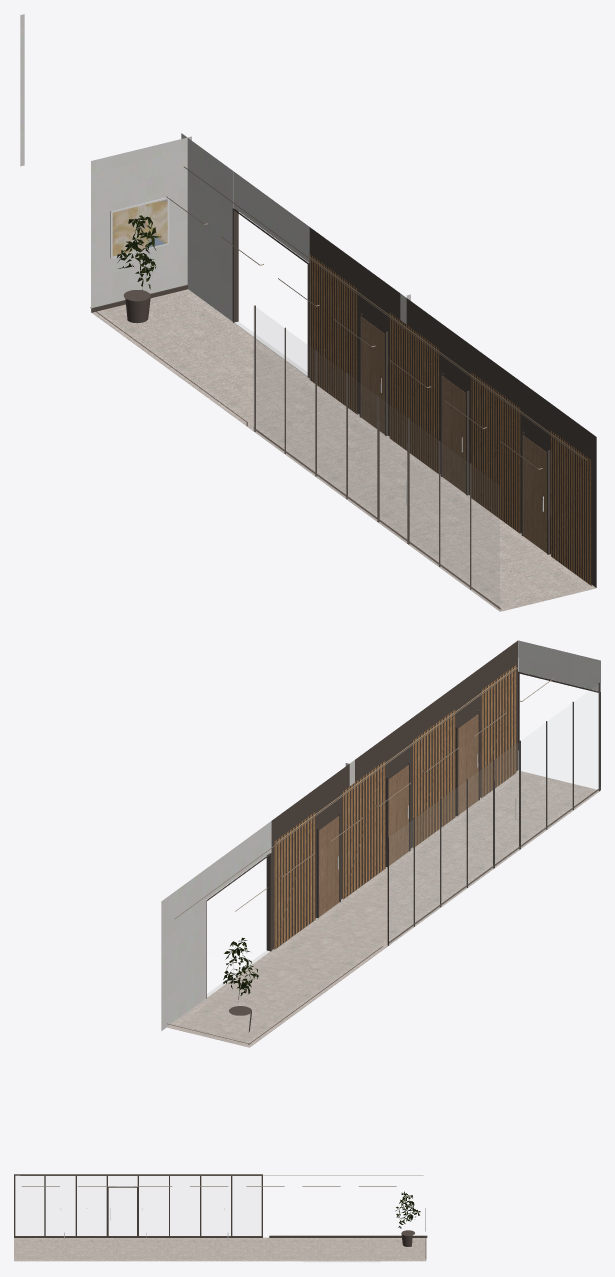
Rendered from z-corridor-lite.light.e96277b6.glb.
The picture shows the model from 3 angles, top to bottom: view 1: azimuth 30°, elevation 25°; view 2: azimuth 150°, elevation 25°; view 3: azimuth 270°, elevation 25°; orthographic projection. The views are drawn at different scales.
Parts seen in each view (by area): view 1: corridor_terrazzo, corridor_proxy_slat, corridor_plaster, corridor_satin, corridor_oak, corridor_art, corridor_emit, corridor_veg_atlas, corridor_metal_lit; view 2: corridor_terrazzo, corridor_proxy_slat, corridor_satin, corridor_plaster, corridor_oak, corridor_emit, corridor_veg_atlas; view 3: corridor_terrazzo, corridor_satin, corridor_emit, corridor_veg_atlas, corridor_metal_lit.
Part boxes in pixels (<box>): corridor_terrazzo: <box>91,289,595,611</box>; corridor_proxy_slat: <box>309,254,591,585</box>; corridor_plaster: <box>20,14,410,324</box>; corridor_satin: <box>90,208,596,609</box>; corridor_oak: <box>361,317,546,553</box>; corridor_art: <box>112,199,167,256</box>; corridor_emit: <box>166,166,587,469</box>; corridor_veg_atlas: <box>117,215,161,289</box>; corridor_metal_lit: <box>110,197,543,511</box>; corridor_terrazzo: <box>167,770,600,1047</box>; corridor_proxy_slat: <box>274,665,516,949</box>; corridor_satin: <box>167,640,600,1044</box>; corridor_plaster: <box>161,640,600,1030</box>; corridor_oak: <box>319,714,478,916</box>; corridor_emit: <box>174,667,554,919</box>; corridor_veg_atlas: <box>223,937,258,1001</box>; corridor_terrazzo: <box>14,1237,426,1261</box>; corridor_satin: <box>14,1174,427,1258</box>; corridor_emit: <box>20,1175,423,1186</box>; corridor_veg_atlas: <box>395,1191,420,1228</box>; corridor_metal_lit: <box>64,1208,425,1262</box>.
Size of the model in its own units: 2.3 by 3.35 by 23.
Materials: 10 (6 with a texture image).
